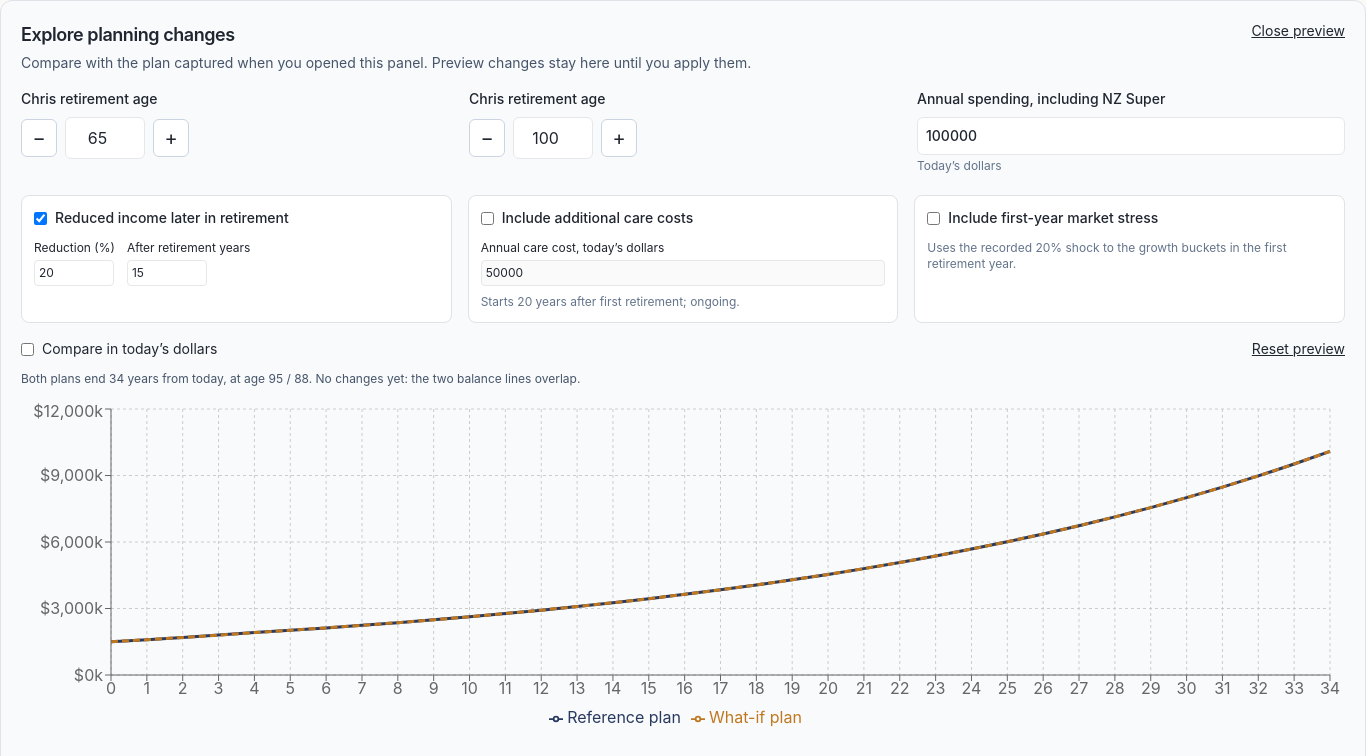
Scenario: same-named clients have distinct labelled controls and a preview error disables applying
Expected: the 2nd number field labelled "Chris retirement age" is shown, left=513, top=117, right=593, bottom=159
Replace the text in the 1st number field labelled "Chris retirement age" with "120" at (105, 138), box left=65, top=117, right=145, bottom=159
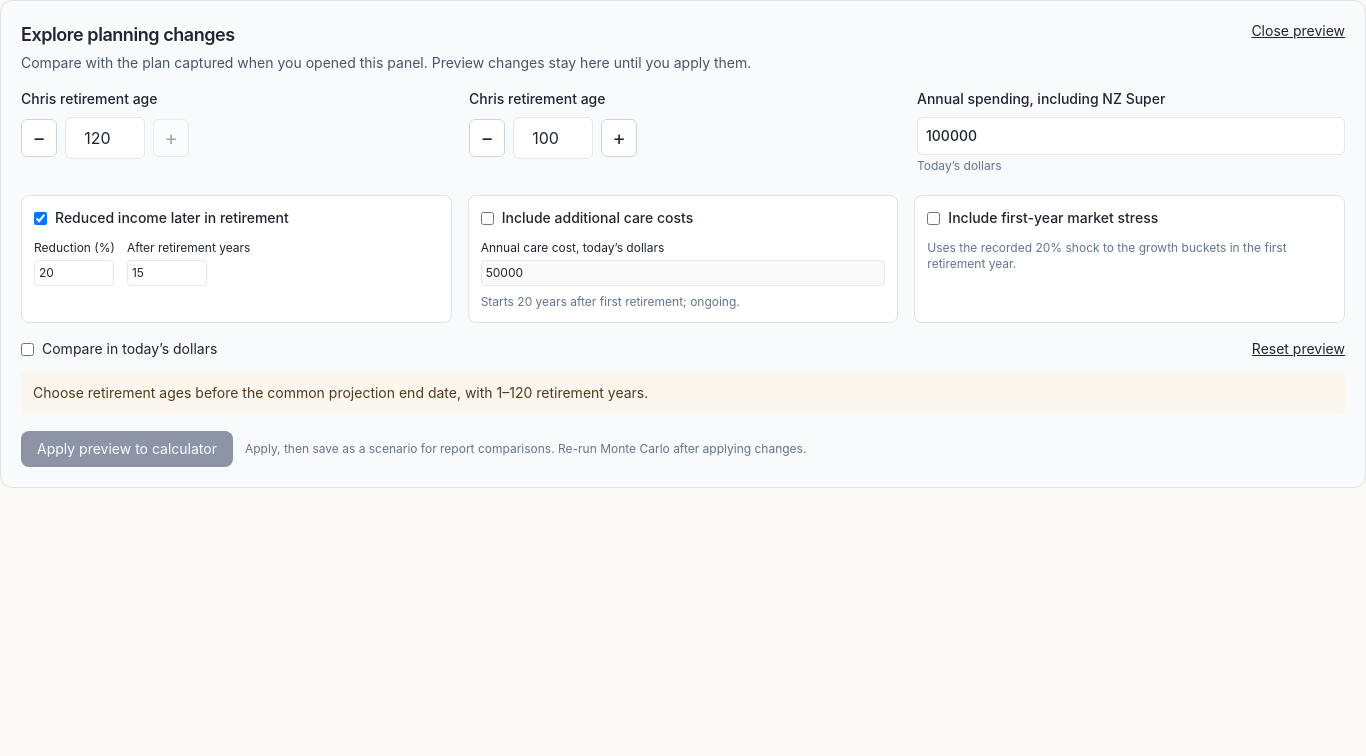
Expected: the button "Apply preview to calculator" is disabled, left=21, top=431, right=233, bottom=467
Expected: the message shows "common projection end date", left=33, top=384, right=648, bottom=401
